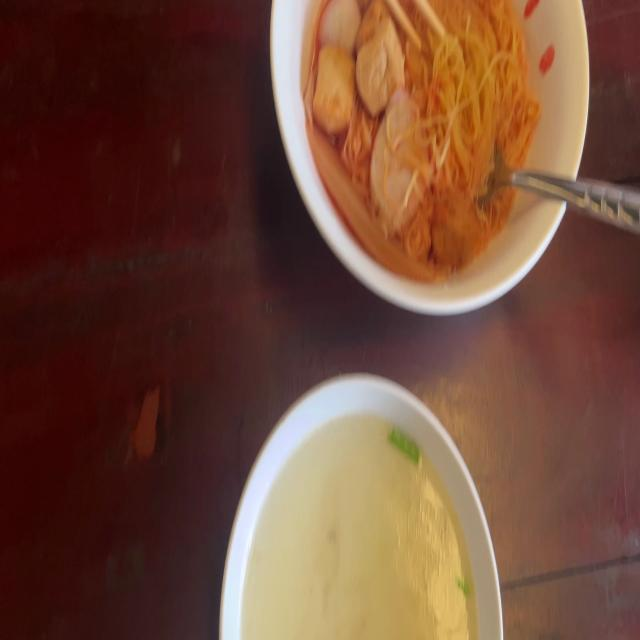crunchy_squid: (305, 119, 440, 281)
egg_noodles: (410, 5, 530, 204)
fish_ball: (316, 0, 363, 61)
fried_fish_balls: (372, 92, 427, 233)
fried_tofu: (359, 0, 401, 105)
noodle: (303, 0, 542, 282)
tofu: (318, 41, 354, 128)
